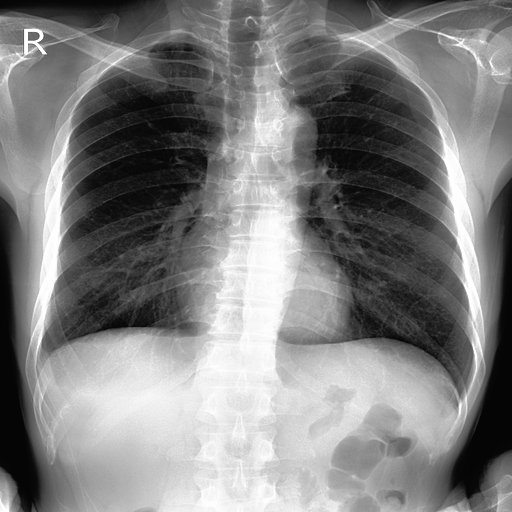Calcification: (30, 345, 55, 373)
Pleural effusion: (29, 344, 56, 370)
